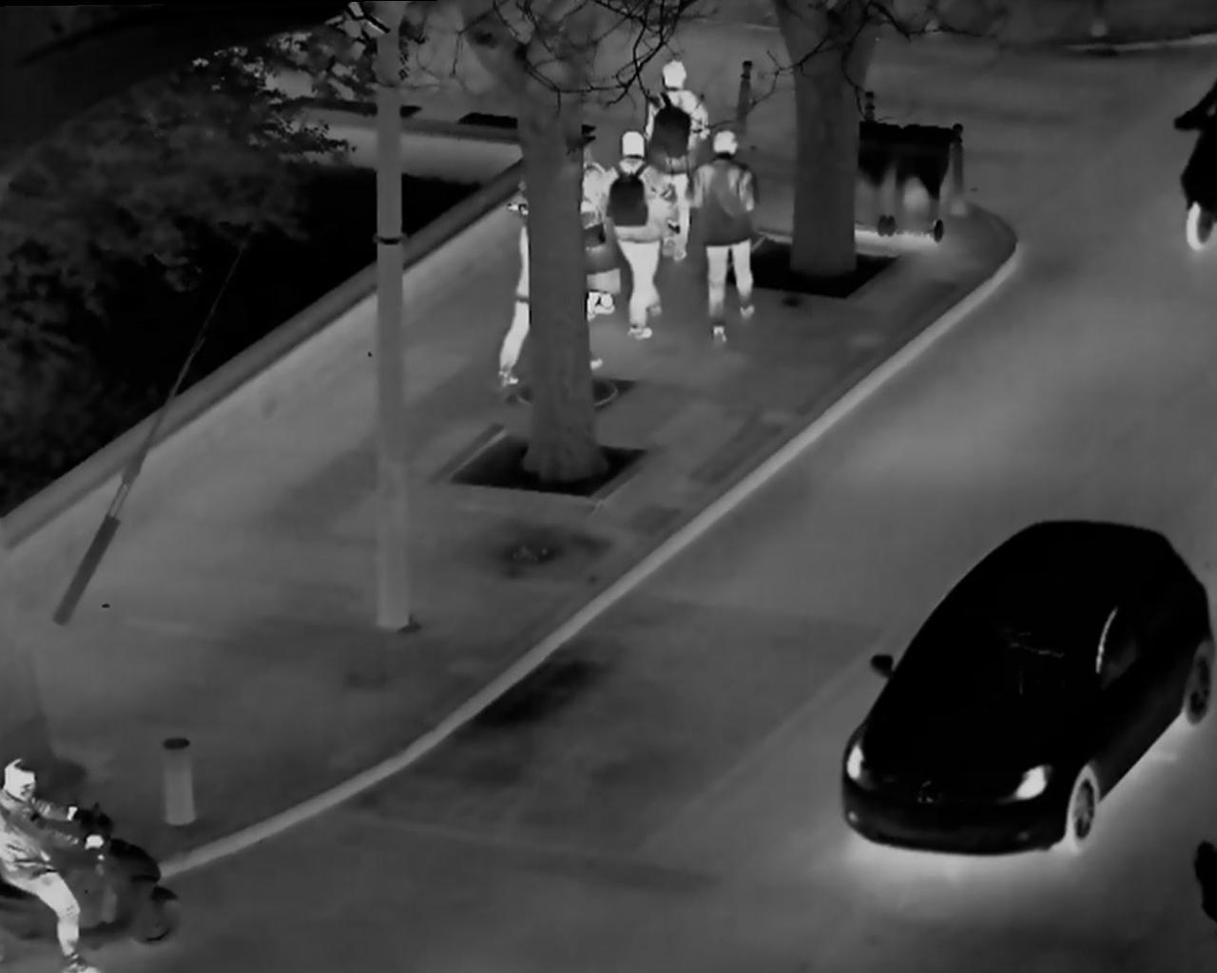person: (630, 44, 725, 260), (691, 125, 779, 349), (596, 122, 674, 363), (579, 140, 626, 320), (498, 202, 531, 384)
